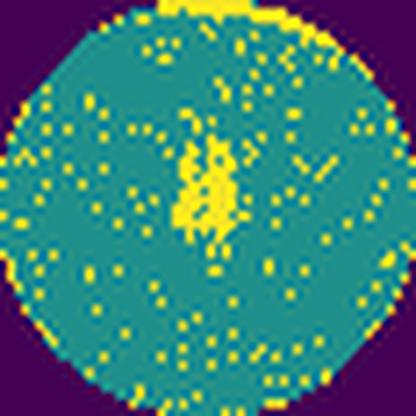Center: (174, 128, 240, 248)
